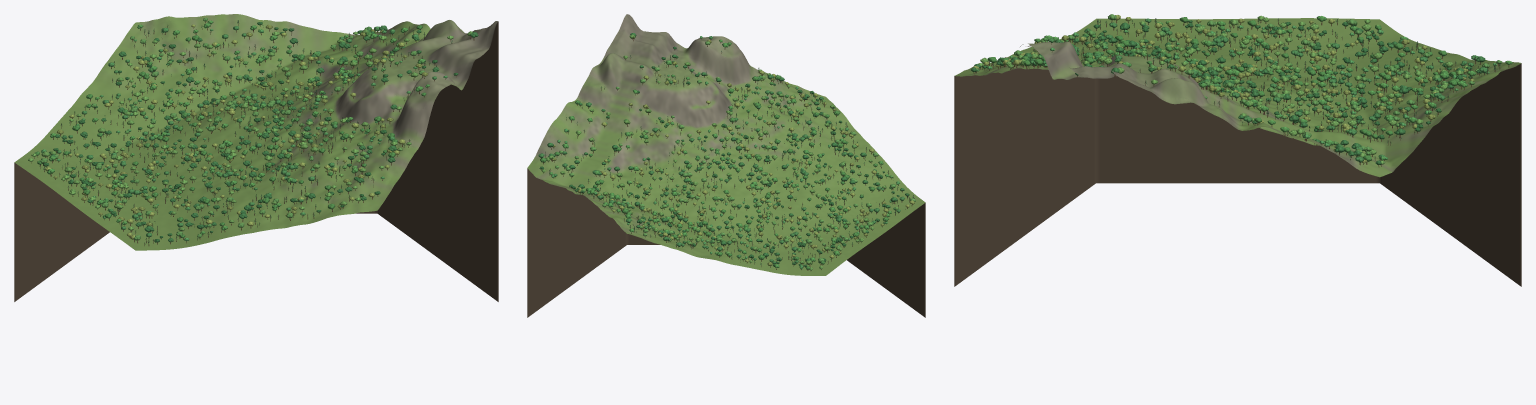
The picture shows the model from 3 angles, left to right: view 1: azimuth 30°, elevation 25°; view 2: azimuth 150°, elevation 25°; view 3: azimuth 270°, elevation 25°; orthographic projection. The views are drawn at different scales.
Parts seen in each view (by area): view 1: terrain, hex_side_cut, broadleaf_canopy, trunks, conifer_canopy; view 2: terrain, broadleaf_canopy, hex_side_cut, trunks, conifer_canopy; view 3: hex_side_cut, terrain, broadleaf_canopy, trunks, conifer_canopy.
Boxes of the visible parts, x1,y1,x2,y2 form: terrain: (14, 14, 498, 250); hex_side_cut: (14, 22, 498, 301); broadleaf_canopy: (28, 17, 478, 242); trunks: (31, 21, 474, 245); conifer_canopy: (39, 20, 452, 244); terrain: (527, 14, 925, 275); broadleaf_canopy: (538, 33, 915, 270); hex_side_cut: (527, 168, 925, 317); trunks: (541, 38, 914, 270); conifer_canopy: (545, 51, 913, 265); hex_side_cut: (954, 63, 1521, 286); terrain: (954, 18, 1521, 177); broadleaf_canopy: (971, 14, 1512, 164); trunks: (973, 18, 1509, 167); conifer_canopy: (981, 18, 1500, 159).
Bounding box in the file's own units: 4330 × 3201 × 5000.
6 materials, 1 textured.
